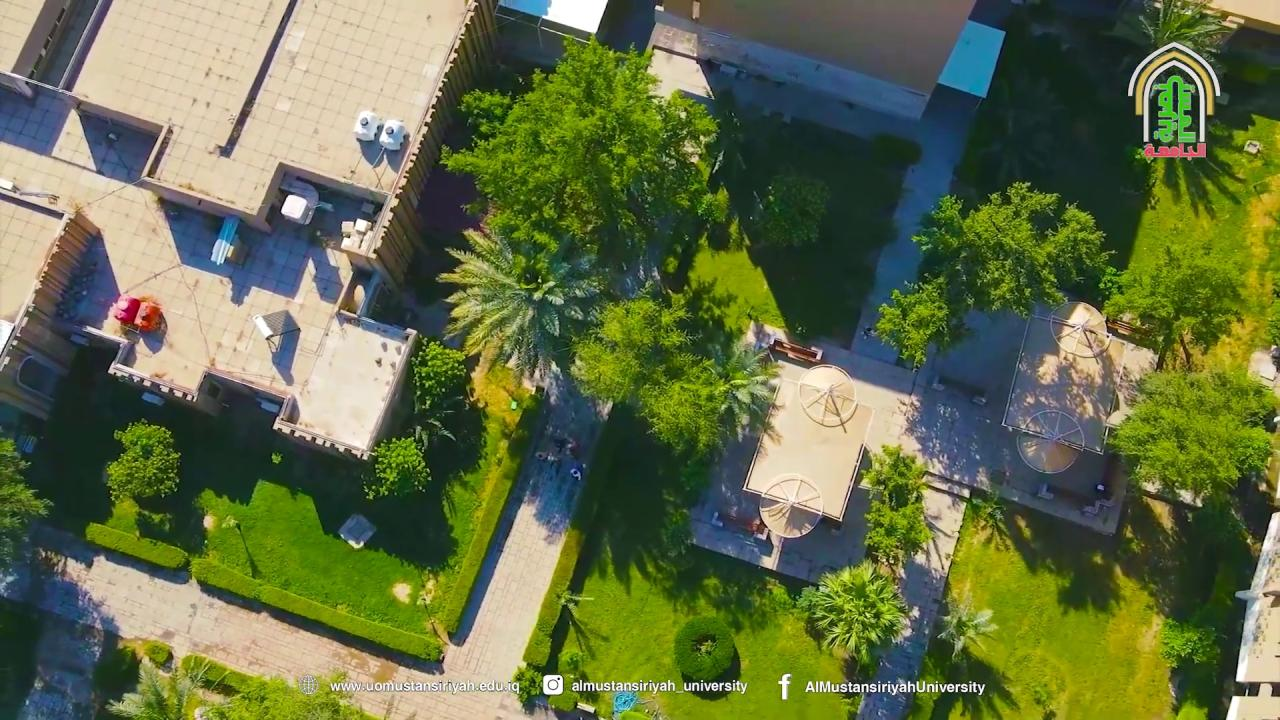tree: (437, 32, 730, 284), (566, 290, 782, 460), (909, 178, 1117, 322), (435, 224, 604, 384), (1106, 361, 1277, 505), (1100, 240, 1248, 371), (360, 334, 475, 501), (636, 341, 782, 458), (566, 293, 696, 414), (799, 559, 910, 672), (858, 442, 933, 586), (872, 273, 953, 395), (205, 669, 377, 719), (105, 652, 229, 718), (408, 335, 469, 452), (104, 417, 181, 509), (191, 487, 259, 578), (754, 170, 830, 249), (567, 336, 639, 419), (1135, 0, 1235, 59), (0, 434, 53, 536), (935, 586, 998, 662), (361, 435, 431, 500), (672, 613, 735, 684), (1158, 617, 1222, 673), (552, 582, 596, 660), (457, 87, 514, 144), (966, 488, 1010, 552), (115, 636, 174, 670), (512, 662, 544, 713)
